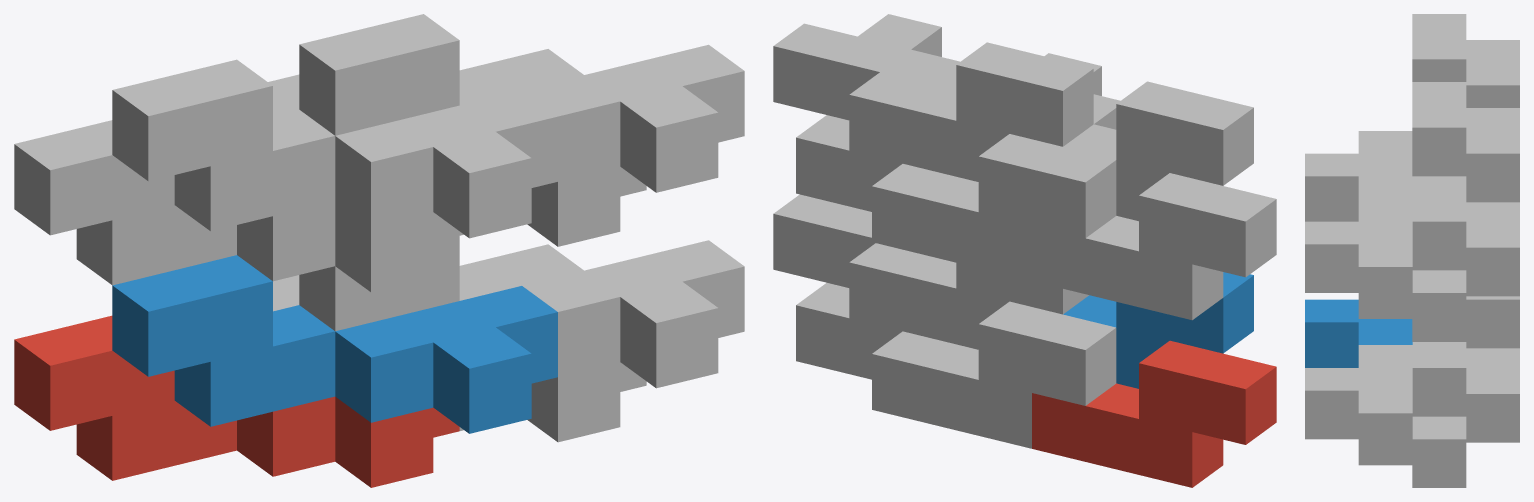
The model's file is tiling.obj.
3 views of the same model, side by side, from view 1: azimuth 30°, elevation 25°; view 2: azimuth 150°, elevation 25°; view 3: azimuth 270°, elevation 25° (orthographic). The views are drawn at different scales.
Parts seen in each view (by area): view 1: copy_1_domain_4, copy_1_domain_2, copy_1_domain_8, copy_1_domain_1, copy_1_domain_3, copy_1_domain_6, copy_1_domain_7, copy_1_domain_5; view 2: copy_1_domain_8, copy_1_domain_7, copy_1_domain_5, copy_1_domain_3, copy_1_domain_1, copy_1_domain_6, copy_1_domain_4, copy_1_domain_2; view 3: copy_1_domain_8, copy_1_domain_6, copy_1_domain_7, copy_1_domain_5, copy_1_domain_4, copy_1_domain_2, copy_1_domain_3.
Boxes of the visible parts, box(x1,y1,x2,y2) form: copy_1_domain_4: box(112, 59, 557, 238); copy_1_domain_2: box(112, 255, 557, 433); copy_1_domain_8: box(299, 14, 744, 192); copy_1_domain_1: box(14, 315, 459, 487); copy_1_domain_3: box(14, 120, 459, 292); copy_1_domain_6: box(299, 236, 744, 388); copy_1_domain_7: box(268, 74, 646, 246); copy_1_domain_5: box(273, 275, 646, 442); copy_1_domain_8: box(773, 14, 1093, 181); copy_1_domain_7: box(796, 115, 1116, 280); copy_1_domain_5: box(796, 283, 1116, 448); copy_1_domain_3: box(1032, 173, 1276, 320); copy_1_domain_1: box(1032, 340, 1276, 487); copy_1_domain_6: box(773, 194, 1088, 349); copy_1_domain_4: box(934, 53, 1253, 221); copy_1_domain_2: box(1063, 272, 1253, 388); copy_1_domain_8: box(1305, 82, 1466, 315); copy_1_domain_6: box(1305, 342, 1466, 461); copy_1_domain_7: box(1358, 108, 1519, 341); copy_1_domain_5: box(1358, 296, 1519, 487); copy_1_domain_4: box(1305, 14, 1466, 221); copy_1_domain_2: box(1305, 299, 1412, 367); copy_1_domain_3: box(1466, 40, 1519, 107).
Bounding box in the file's own units: 10 × 6 × 4.
